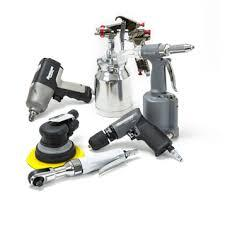wrench: (26, 144, 137, 187)
